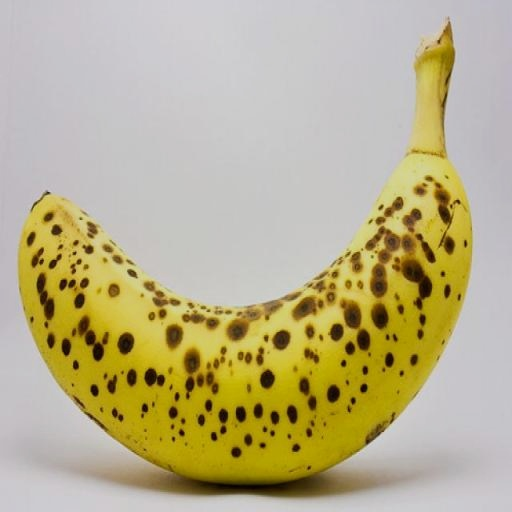fruit: (19, 23, 471, 483)
